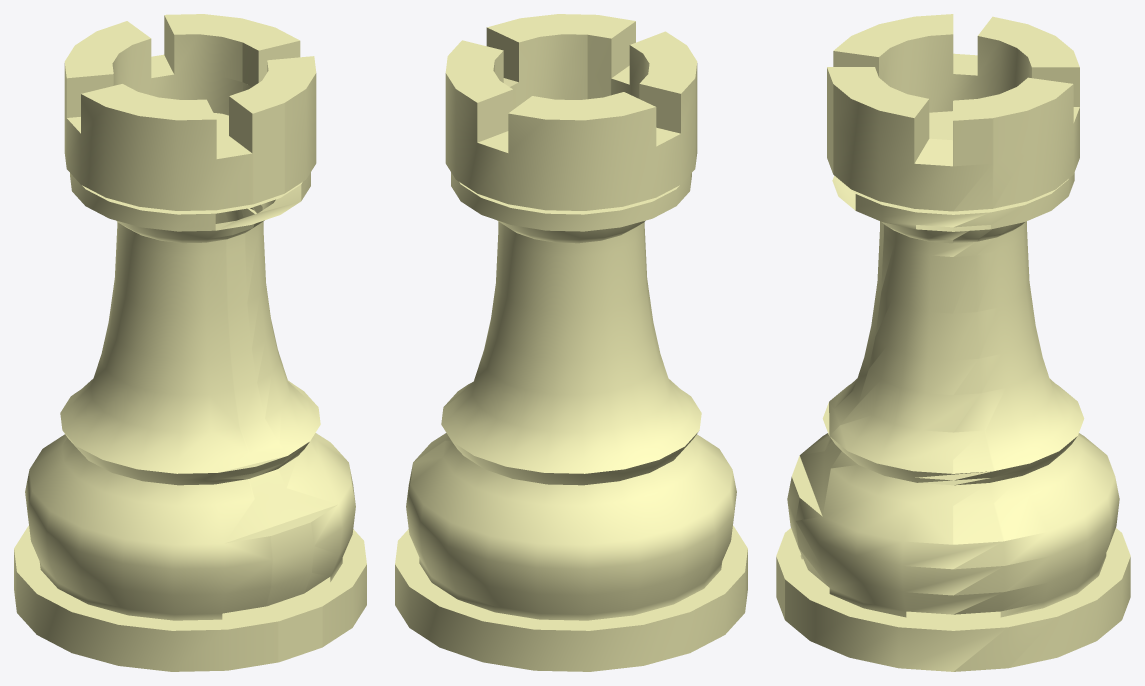
The picture shows the model from 3 angles, left to right: view 1: azimuth 30°, elevation 25°; view 2: azimuth 150°, elevation 25°; view 3: azimuth 270°, elevation 25°; orthographic projection.
Parts seen in each view (by area): view 1: White_Rook; view 2: White_Rook; view 3: White_Rook.
Part boxes in pixels (x1=…): White_Rook: x1=14, y1=14, x2=366, y2=671; White_Rook: x1=395, y1=14, x2=747, y2=671; White_Rook: x1=776, y1=14, x2=1130, y2=671.
Bounding box in the file's own units: 1.57 × 2.59 × 1.57.
